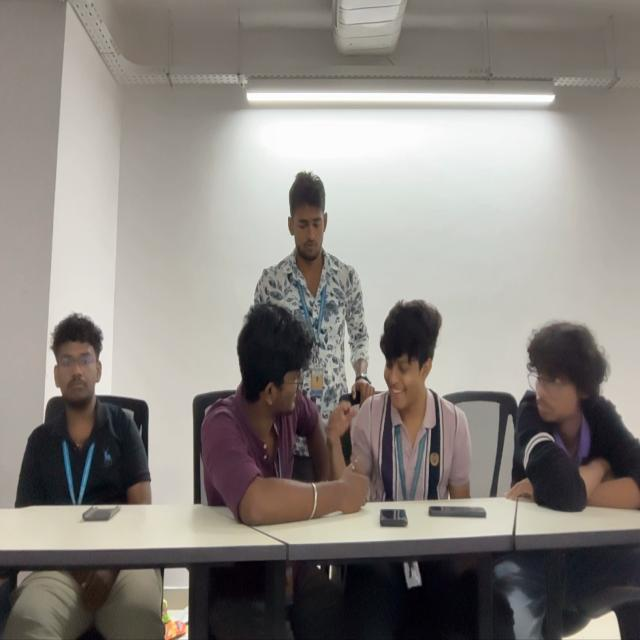Isolated: (9, 320, 157, 504), (511, 319, 639, 510)
socializing: (198, 171, 471, 523)
